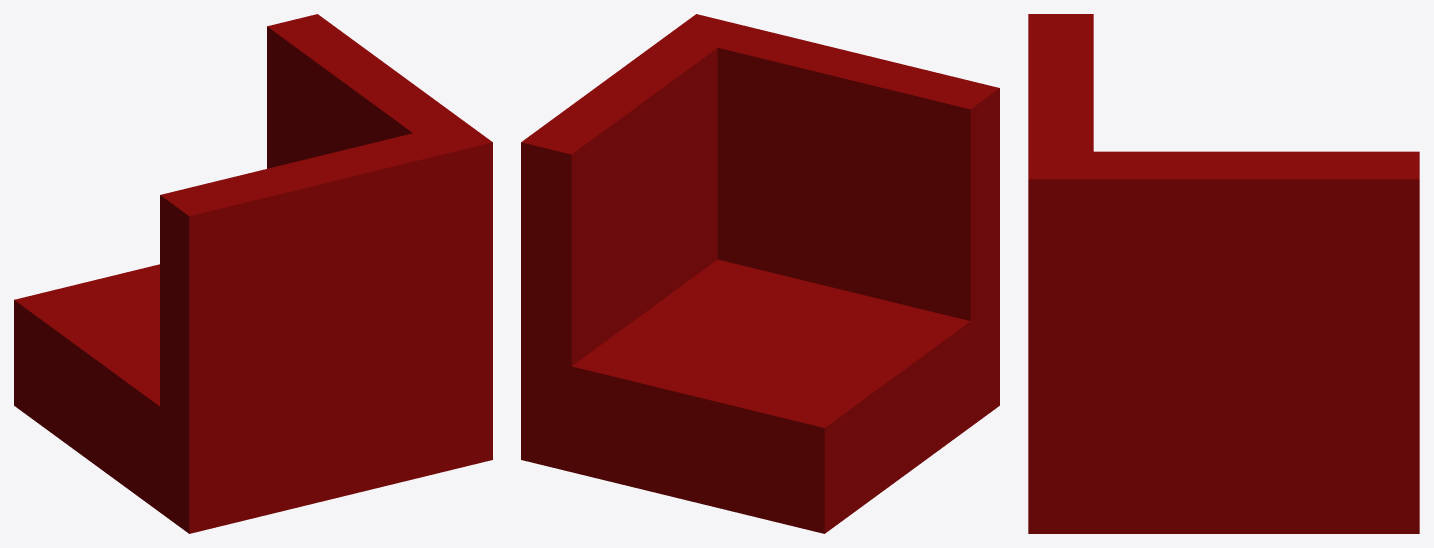
The model's file is SM_CornerLedge_1x1x1.gltf.
The picture shows the model from 3 angles, left to right: view 1: azimuth 30°, elevation 25°; view 2: azimuth 150°, elevation 25°; view 3: azimuth 270°, elevation 25°; orthographic projection. The views are drawn at different scales.
Parts seen in each view (by area): view 1: SM_CornerLedge_1x1x1; view 2: SM_CornerLedge_1x1x1; view 3: SM_CornerLedge_1x1x1.
Part boxes in pixels (x1=…): SM_CornerLedge_1x1x1: x1=14, y1=14, x2=492, y2=533; SM_CornerLedge_1x1x1: x1=521, y1=14, x2=999, y2=533; SM_CornerLedge_1x1x1: x1=1028, y1=14, x2=1419, y2=533.
Bounding box in the file's own units: 0.3 × 0.3 × 0.3.
